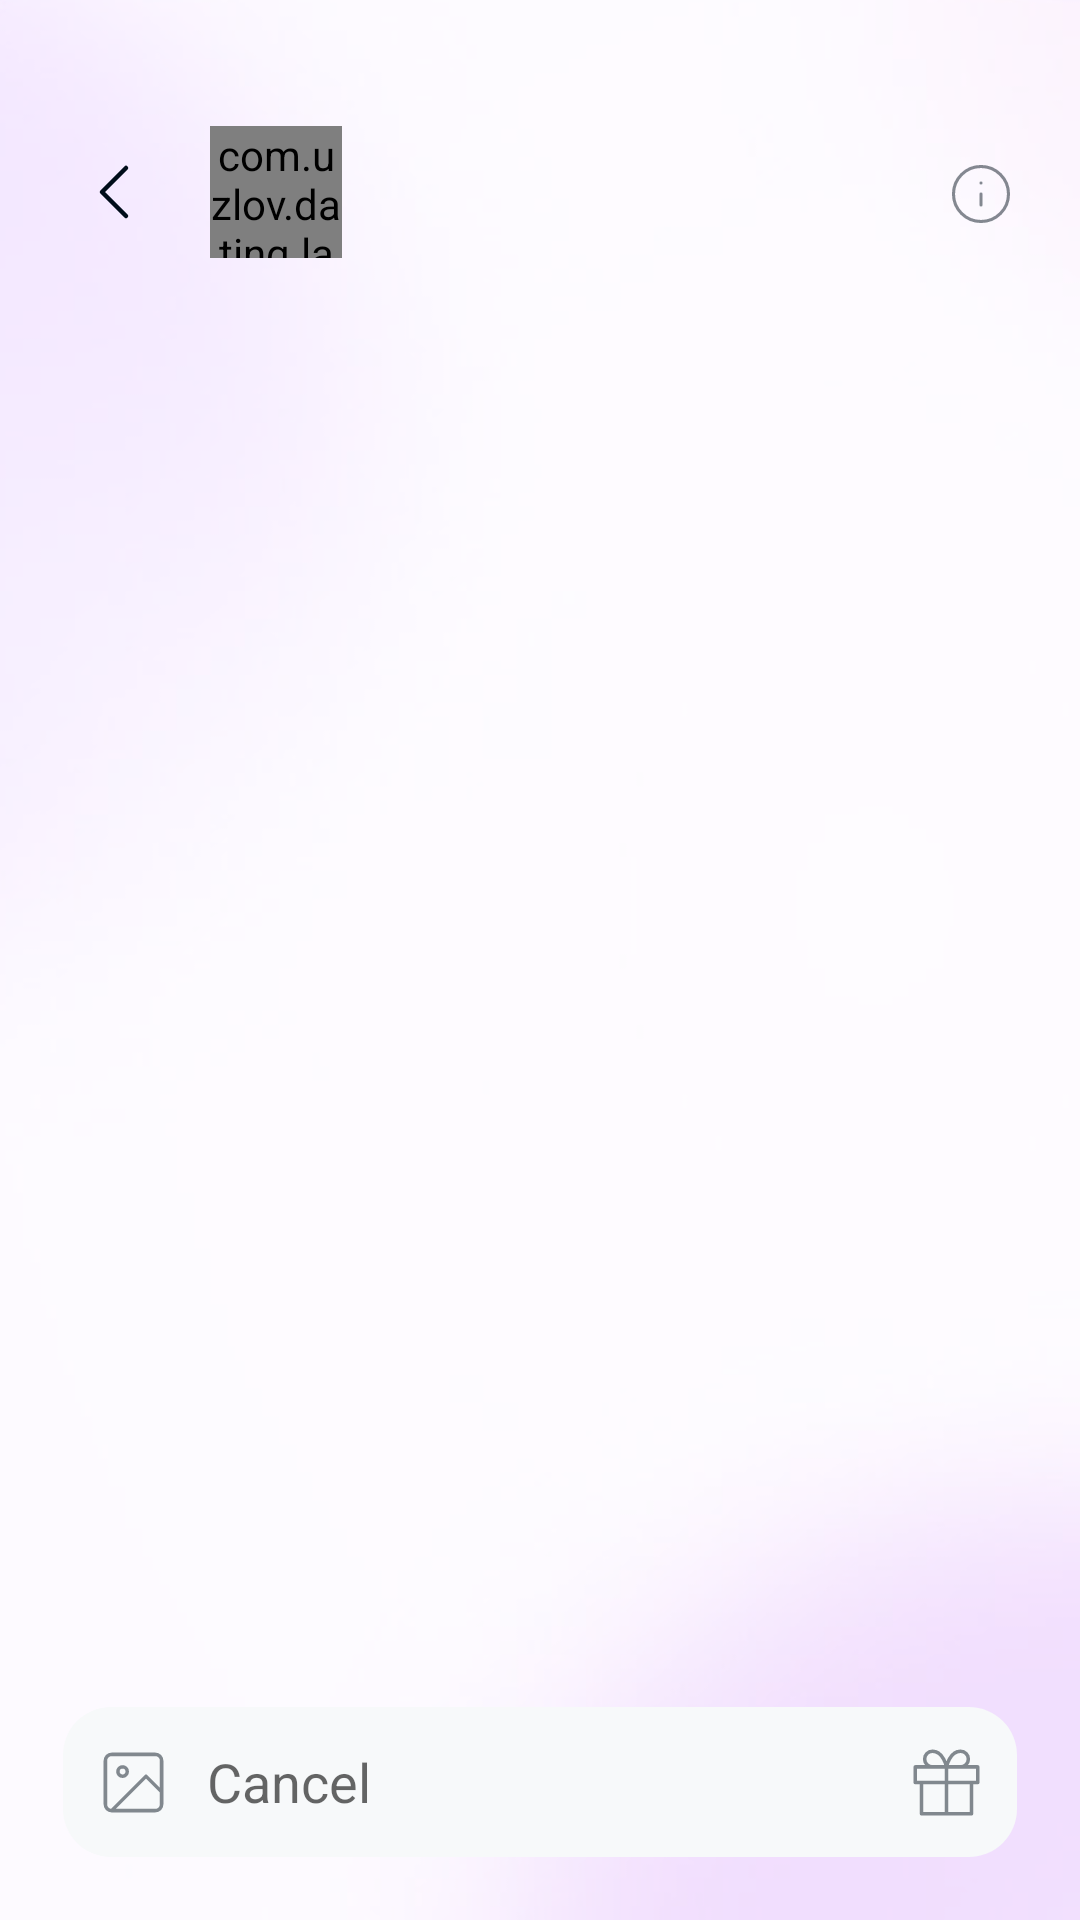

Icon bounding boxes for this 1080*1920 phone screenshot, format (x1, y1, x2, y2):
chevron left: (99, 165, 129, 219)
gift: (913, 1749, 980, 1816)
info: (952, 165, 1010, 223)
